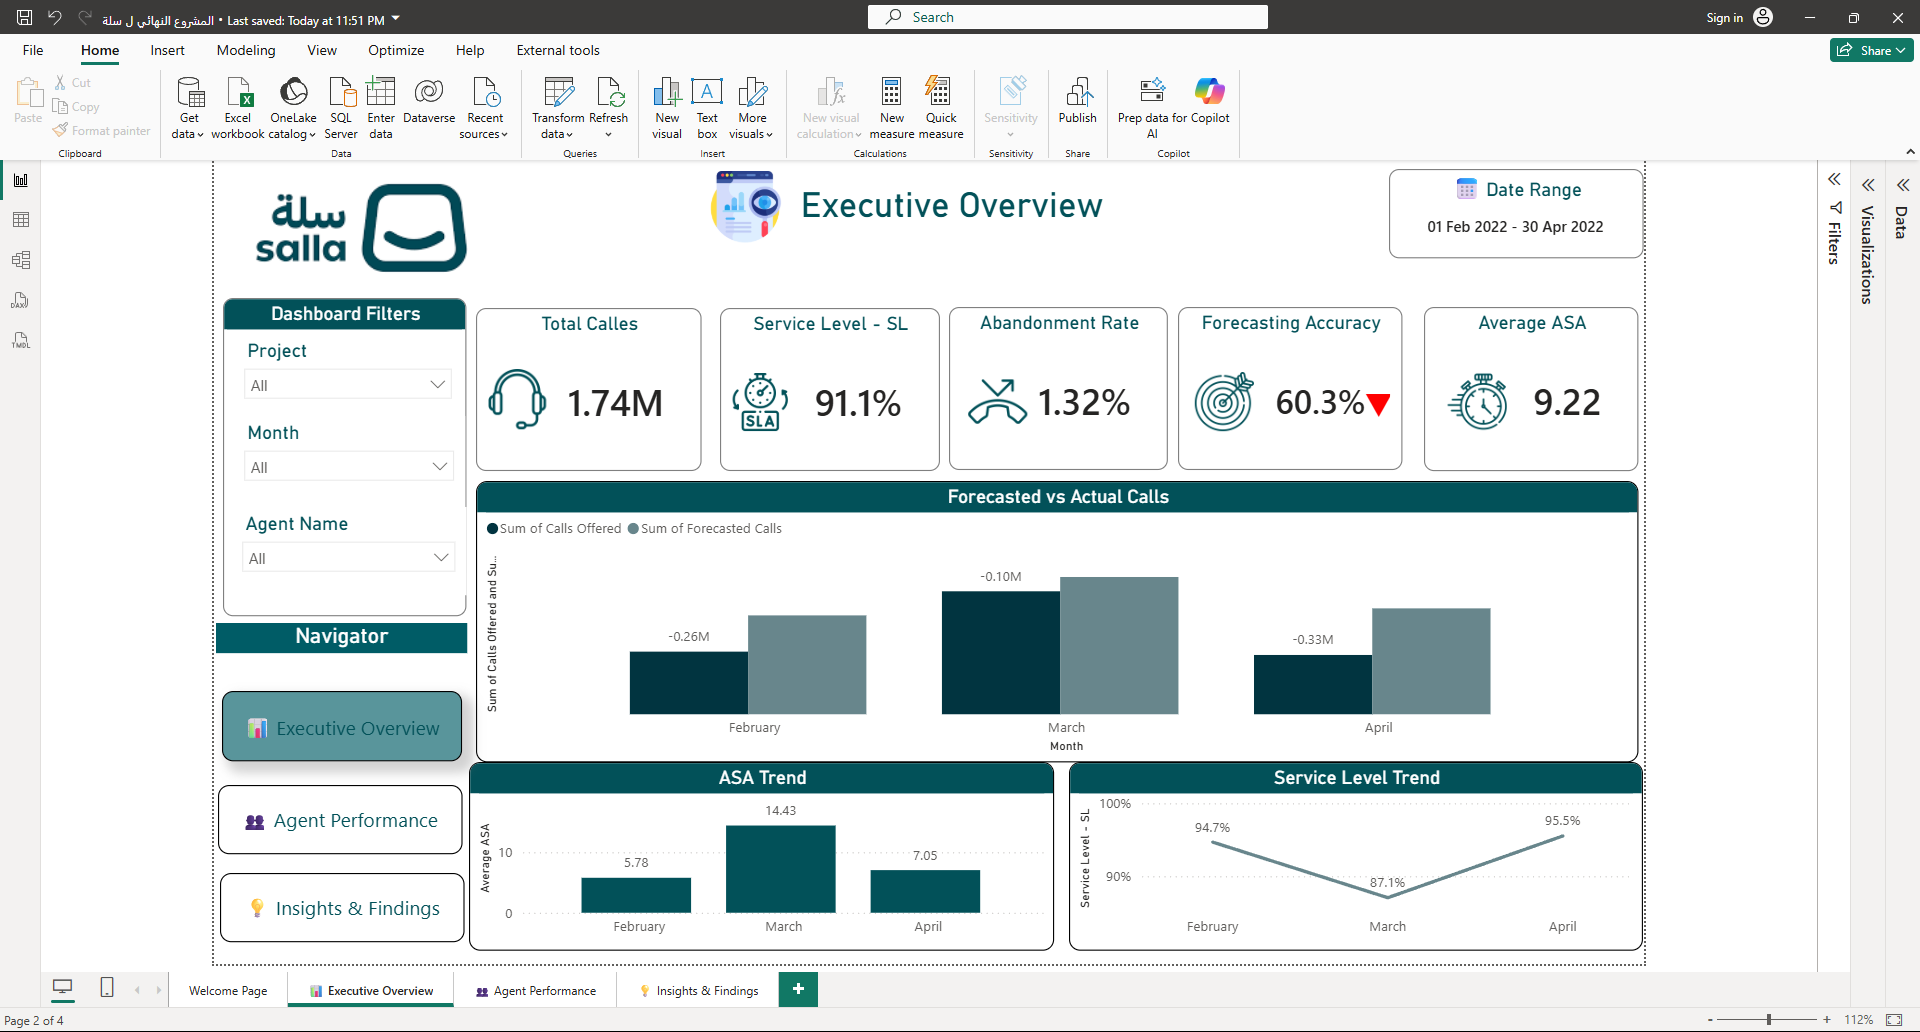

What the dashboard file says about the page in this screenshot:
{"tool":"powerbi","page":{"name":"📊 Executive Overview","canvas":[1280,720],"ordinal":1},"visuals":[{"type":"textbox","title":"Executive Overview","box":[357.8,22.7,605.4,65.9],"z":0,"group":"g2"},{"type":"cardVisual","title":"Average ASA","fields":{"Data":["Table.Average ASA"]},"box":[1083.8,131.8,192.2,146.6],"z":0},{"type":"cardVisual","title":"Forecasting Accuracy","fields":{"Data":["Table.Forecasting Accuracy"]},"box":[863,132,201,146],"z":1000},{"type":"actionButton","title":"Navigator","box":[2.1,414.3,225.1,293.8],"z":1000,"group":"g4"},{"type":"cardVisual","title":"Total Calles","fields":{"Data":["Table.Total_calles"]},"box":[234.8,132.1,201.7,145.9],"z":2000,"group":"g5"},{"type":"cardVisual","title":"Service Level - SL","fields":{"Data":["Table.Service Level - SL"]},"box":[453.4,132.1,196.6,145.9],"z":2000},{"type":"cardVisual","title":"Abandonment Rate","fields":{"Data":["Table.Abandonment Rate"]},"box":[658.1,132,196.3,146.3],"z":3000},{"type":"image","box":[234.6,186.9,73.4,53.8],"z":3000,"group":"g5"},{"type":"actionButton","box":[5.4,637.9,218.6,61.9],"z":3000,"group":"g4"},{"type":"image","box":[439.3,190.3,98.7,52.3],"z":4000},{"type":"image","box":[854,190,100,53],"z":5000},{"type":"actionButton","box":[7.1,475,215.3,63],"z":5000,"group":"g4"},{"type":"image","box":[1082.8,190.2,97.1,52.5],"z":6000},{"type":"image","box":[0,9.9,264.5,102],"z":7000},{"type":"clusteredColumnChart","title":"Forecasted vs Actual Calls","fields":{"Y":["Sum(Sallah.Calls Offered)","Sum(Sallah.Forecasted Calls)"],"Category":["Date.Date.Variation.Date Hierarchy.Month","Date.Date.Variation.Date Hierarchy.Day"]},"box":[234.6,287.6,1041.1,251.9],"z":8000},{"type":"lineChart","title":"Service Level Trend","fields":{"Y":["Table.Service Level - SL"],"Category":["Date.Date.Variation.Date Hierarchy.Month","Sallah.day"]},"box":[766,539,514,169],"z":9000},{"type":"actionButton","title":"Dashboard Filters","box":[8,124,218,285],"z":10000,"group":"g1"},{"type":"image","box":[665.8,190.2,73.3,52.5],"z":10000},{"type":"cardVisual","title":"📅 Date Range","fields":{"Data":["Table.Date Range"]},"box":[1052.6,8.2,227.8,80.4],"z":11000},{"type":"slicer","fields":{"Values":["Sallah.Project"]},"box":[17,156,206,67],"z":11000,"group":"g1"},{"type":"slicer","fields":{"Values":["Date.Month"]},"box":[17,230,208,81],"z":12000,"group":"g1"},{"type":"columnChart","title":"ASA Trend","fields":{"Category":["Date.Date.Variation.Date Hierarchy.Month","Sallah.day"],"Y":["Table.Average ASA"]},"box":[228,539,524,169],"z":12000},{"type":"cardVisual","fields":{"Data":["Table.Accuracy Arrow"]},"box":[1001,185,81.4,63.4],"z":13000},{"type":"slicer","fields":{"Values":["Sallah.Agent Name"]},"box":[15,311,211,79],"z":13000,"group":"g1"},{"type":"group","id":"g1","title":"Group 1","box":[8,124,218,285],"z":14000},{"type":"group","id":"g2","title":"Group 3","box":[357.8,9.7,605.4,78.9],"z":15000},{"type":"group","id":"g3","title":"Group 7","box":[234.6,132.1,201.9,145.9],"z":16000},{"type":"group","id":"g4","title":"Group 2","box":[2.1,414.3,225.1,293.8],"z":17000},{"type":"actionButton","box":[4.3,559.2,218.6,61.9],"z":18000,"group":"g4"},{"type":"image","box":[400,9.7,152.4,63.8],"z":18001,"group":"g2"},{"type":"group","id":"g5","title":"Group 9","box":[234.6,132.1,201.9,145.9],"z":19002,"group":"g3"}]}

Visuals, with their boxes on the page's 1280x720 design canvas (x1, y1, x2, y2). These are canvas units, not pixel positions in the 1920x1032 screenshot, which may show the page scaled, cropped or inside an application window:
"Executive Overview" textbox: select_region(358, 23, 963, 89)
"Average ASA" cardVisual: select_region(1084, 132, 1276, 278)
"Forecasting Accuracy" cardVisual: select_region(863, 132, 1064, 278)
"Navigator" actionButton: select_region(2, 414, 227, 708)
"Total Calles" cardVisual: select_region(235, 132, 436, 278)
"Service Level - SL" cardVisual: select_region(453, 132, 650, 278)
"Abandonment Rate" cardVisual: select_region(658, 132, 854, 278)
image: select_region(235, 187, 308, 241)
actionButton: select_region(5, 638, 224, 700)
image: select_region(439, 190, 538, 243)
image: select_region(854, 190, 954, 243)
actionButton: select_region(7, 475, 222, 538)
image: select_region(1083, 190, 1180, 243)
image: select_region(0, 10, 264, 112)
"Forecasted vs Actual Calls" clusteredColumnChart: select_region(235, 288, 1276, 540)
"Service Level Trend" lineChart: select_region(766, 539, 1280, 708)
"Dashboard Filters" actionButton: select_region(8, 124, 226, 409)
image: select_region(666, 190, 739, 243)
"📅 Date Range" cardVisual: select_region(1053, 8, 1280, 89)
slicer - Sallah.Project: select_region(17, 156, 223, 223)
slicer - Date.Month: select_region(17, 230, 225, 311)
"ASA Trend" columnChart: select_region(228, 539, 752, 708)
cardVisual - Table.Accuracy Arrow: select_region(1001, 185, 1082, 248)
slicer - Sallah.Agent Name: select_region(15, 311, 226, 390)
"Group 1" group: select_region(8, 124, 226, 409)
"Group 3" group: select_region(358, 10, 963, 89)
"Group 7" group: select_region(235, 132, 436, 278)
"Group 2" group: select_region(2, 414, 227, 708)
actionButton: select_region(4, 559, 223, 621)
image: select_region(400, 10, 552, 74)
"Group 9" group: select_region(235, 132, 436, 278)
